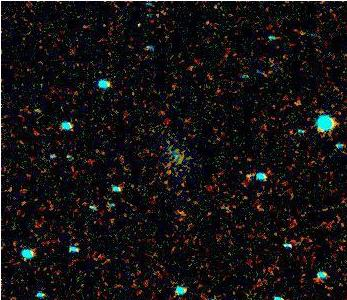star: (123, 7, 153, 37)
